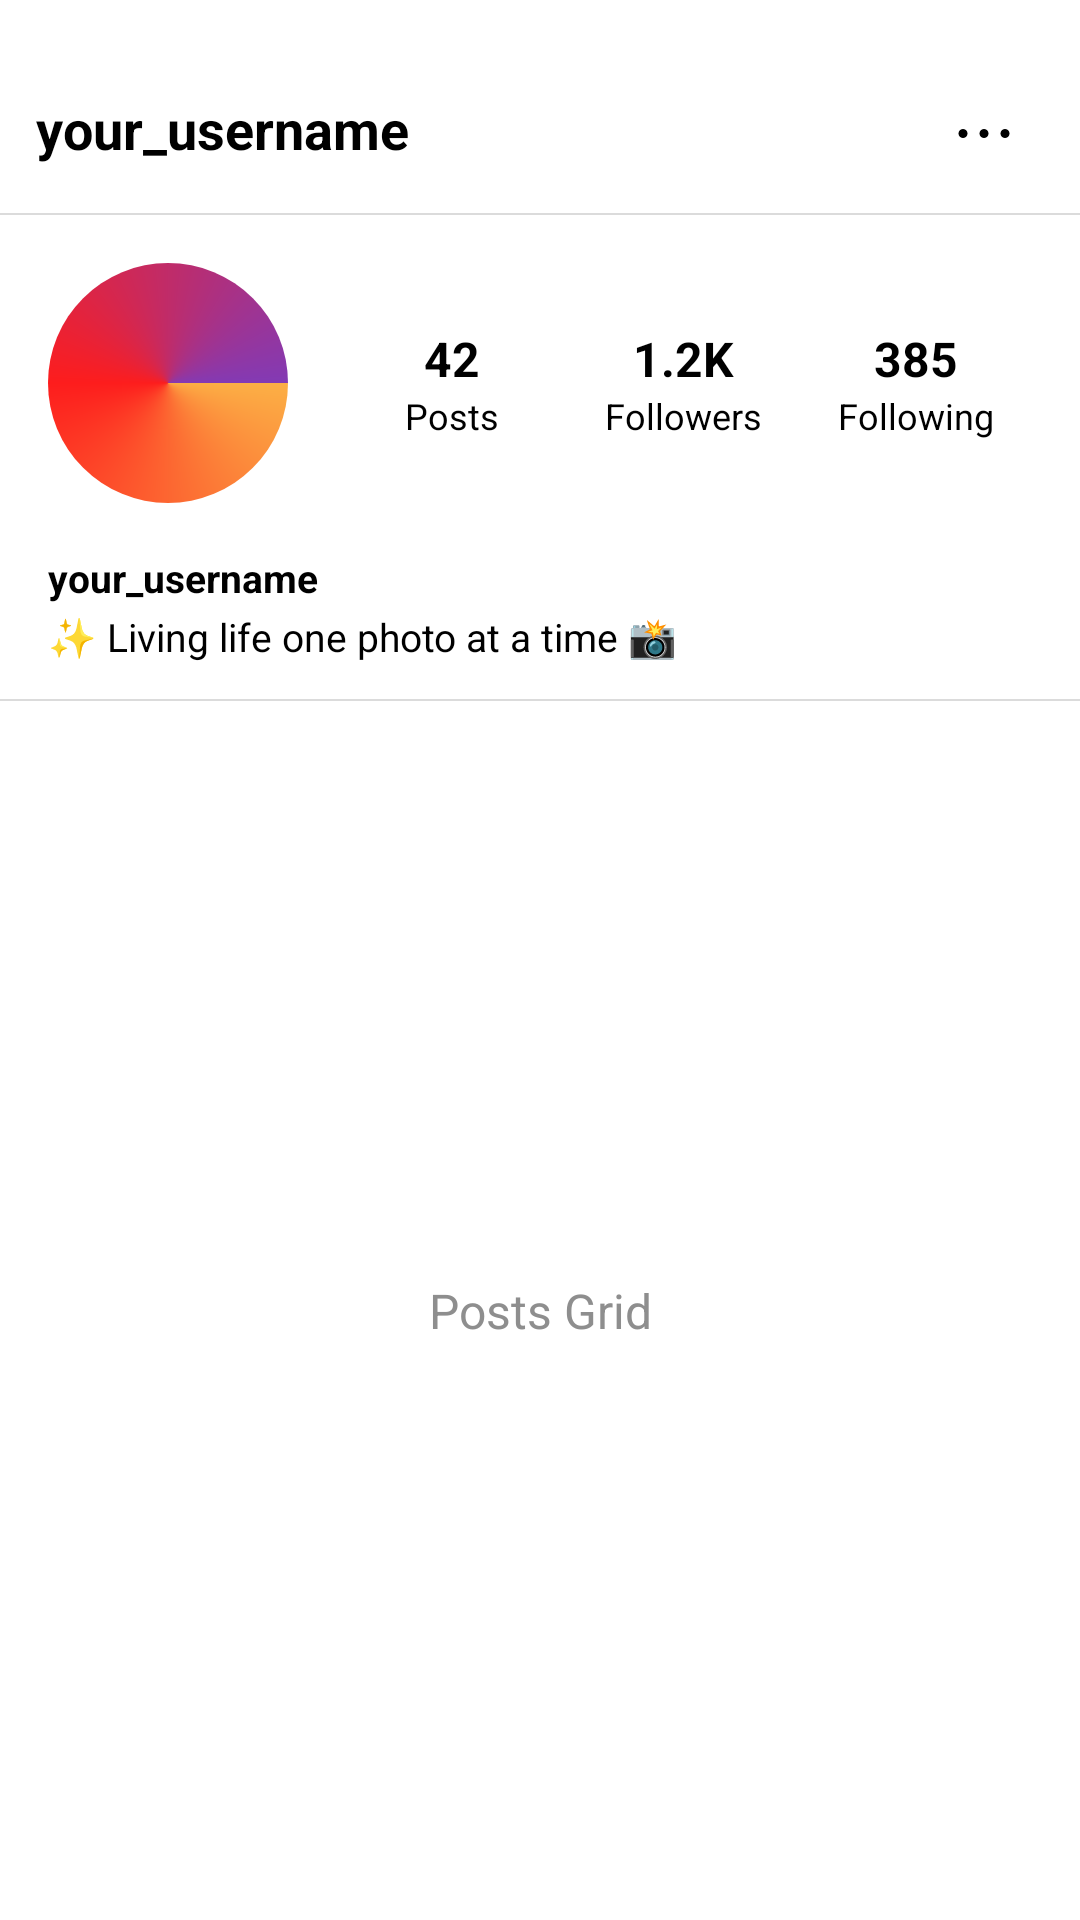

Point at icon controls on the screen. Image size 1080px x 1920px, points as (x=x, y=y).
More: (x=984, y=133)
